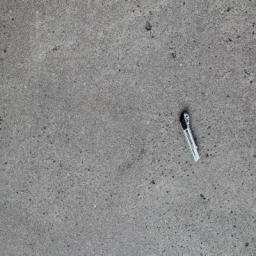FOD: (173, 109, 210, 166)
